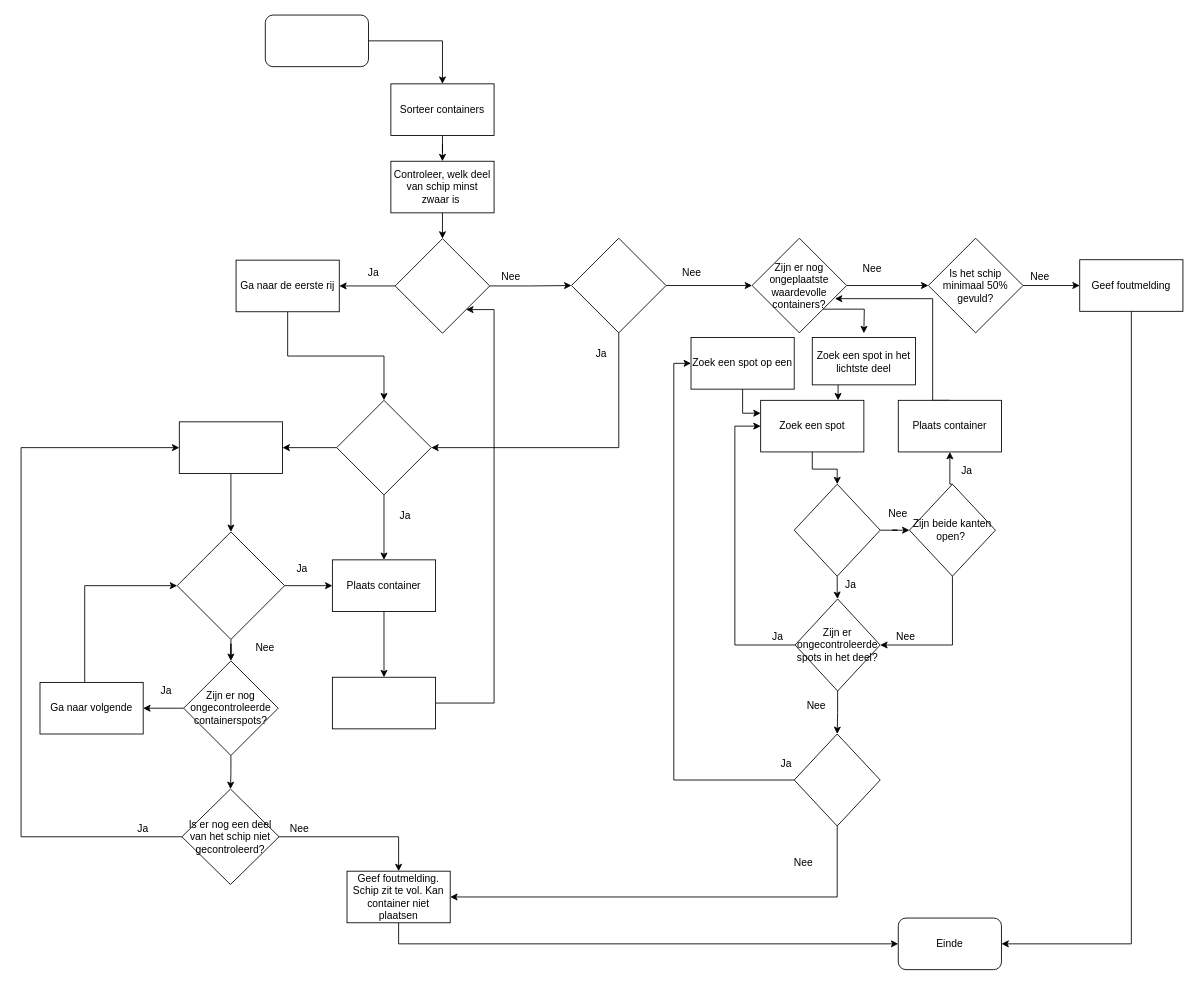
Image size: 1198x985. Some labels were removed from this diagram. The centre of each missing label's shape, as x and y in pixels:
Is de inhoud van deze spot niet zwaarder als 130 ton met deze container: (x=836, y=529)
Is het gewicht op de onderste container lager dan 120 ton met deze erbij?: (x=230, y=585)
Start: (x=316, y=40)
Zet status van container op voltooid: (x=384, y=702)
Zijn er nog lege spots in dit lichtste deel?: (x=383, y=447)
Zijn er nog ongecontroleerde andere delen?: (x=836, y=779)
Zijn er nog ongeplaatste gekoelde containers?: (x=442, y=285)
Zijn er nog ongeplaatste normale containers?: (x=618, y=285)
Zoek spot op andere container in dit deel: (x=230, y=447)
